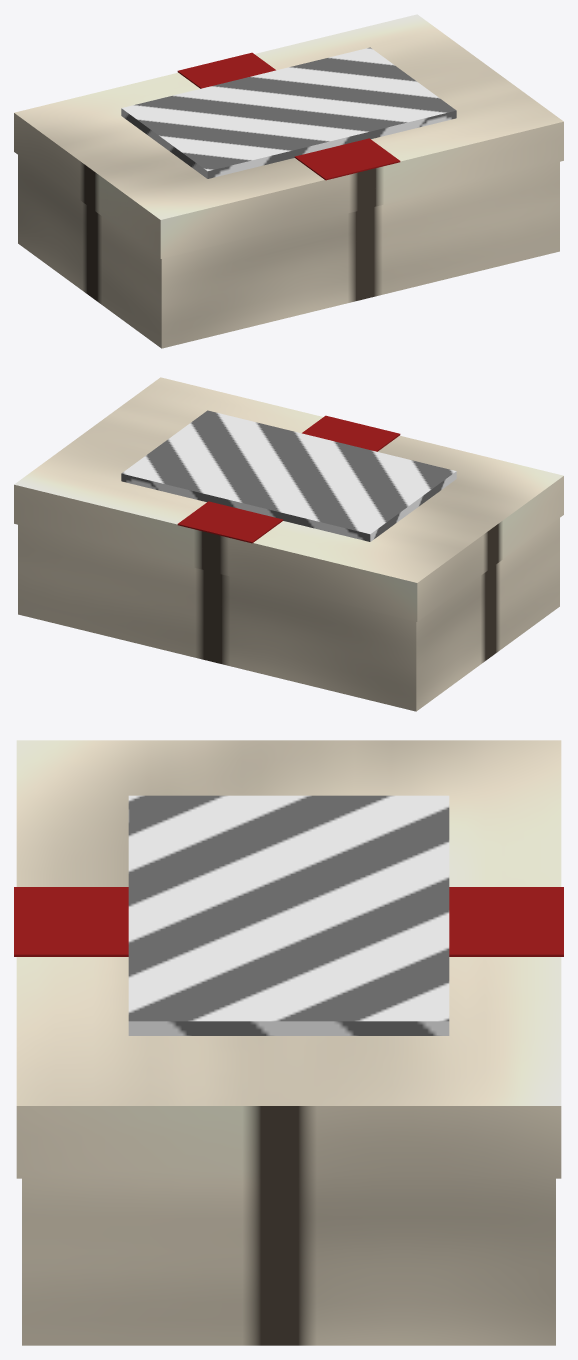
The model's file is sigari.obj.
3 views of the same model, one above another, from view 1: azimuth 30°, elevation 25°; view 2: azimuth 150°, elevation 25°; view 3: azimuth 270°, elevation 25° (orthographic). The views are drawn at different scales.
Parts seen in each view (by area): view 1: sigari; view 2: sigari; view 3: sigari.
Part boxes in pixels (x1,y1,x2,y2): sigari: (14, 14, 563, 348); sigari: (14, 377, 563, 711); sigari: (14, 740, 563, 1345).
Size of the model in its own units: 0.162 by 0.053 by 0.103.
Materials: 4 (3 with a texture image).
